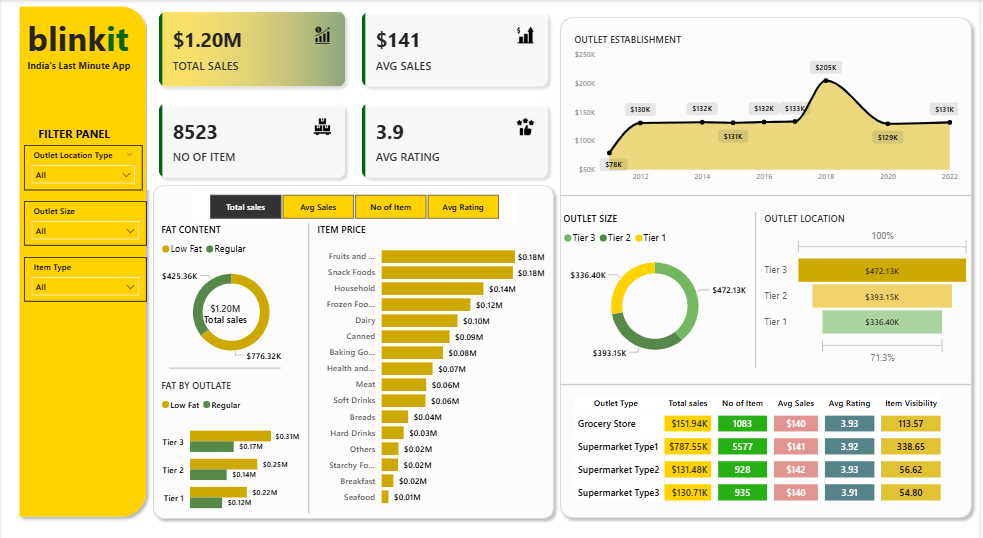

The dashboard page shown, as its layout file describes it:
{"tool":"powerbi","page":{"name":"Page 1","canvas":[1400,800],"ordinal":0},"visuals":[{"type":"shape","box":[16,0,200,750],"z":0},{"type":"textbox","box":[32,16,176,80],"z":1000},{"type":"textbox","box":[32,80,176,32],"z":2000},{"type":"cardVisual","fields":{"Data":["BlinkIT Grocery Data.Total sales","BlinkIT Grocery Data.Avg Sales","BlinkIT Grocery Data.No of Item","BlinkIT Grocery Data.Avg Rating"]},"box":[208,0,592,272],"z":3000},{"type":"shape","box":[208,256,592,496],"z":4000},{"type":"donutChart","title":"FAT CONTENT","fields":{"Y":["BlinkIT Grocery Data.Total sales"],"Category":["BlinkIT Grocery Data.Item Fat Content"]},"box":[224,320,210,210],"z":5000},{"type":"slicer","fields":{"Values":["Matrics.Matrics"]},"box":[272,272,464,48],"z":6000},{"type":"cardVisual","fields":{"Data":["BlinkIT Grocery Data.Total sales"]},"box":[272,416,96,64],"z":7000},{"type":"clusteredBarChart","title":" FAT BY OUTLATE","fields":{"Y":["BlinkIT Grocery Data.Total sales"],"Category":["BlinkIT Grocery Data.Outlet Location Type"],"Series":["BlinkIT Grocery Data.Item Fat Content"]},"box":[224,544,208,208],"z":8000},{"type":"shape","box":[240,512,160,32],"z":9000},{"type":"shape","box":[416,320,48,416],"z":10000},{"type":"barChart","title":"ITEM PRICE","fields":{"Y":["BlinkIT Grocery Data.Total sales"],"Category":["BlinkIT Grocery Data.Item Type"]},"box":[448,320,336,416],"z":11000},{"type":"shape","box":[792,16,608,736],"z":12000},{"type":"lineChart","title":"OUTLET ESTABLISHMENT","fields":{"Y":["BlinkIT Grocery Data.Total sales"],"Category":["BlinkIT Grocery Data.Outlet Establishment Year"]},"box":[816,48,560,224],"z":13000},{"type":"shape","box":[800,272,592,16],"z":14000},{"type":"donutChart","title":"OUTLET SIZE","fields":{"Y":["BlinkIT Grocery Data.Total sales"],"Category":["BlinkIT Grocery Data.Outlet Location Type"]},"box":[800,304,272,224],"z":15000},{"type":"shape","box":[1072,304,16,224],"z":16000},{"type":"funnel","title":"OUTLET LOCATION","fields":{"Y":["BlinkIT Grocery Data.Total sales"],"Category":["BlinkIT Grocery Data.Outlet Location Type"]},"box":[1088,304,304,224],"z":17000},{"type":"shape","box":[800,544,592,16],"z":18000},{"type":"pivotTable","fields":{"Rows":["BlinkIT Grocery Data.Outlet Type"],"Values":["BlinkIT Grocery Data.Total sales","BlinkIT Grocery Data.No of Item","BlinkIT Grocery Data.Avg Sales","BlinkIT Grocery Data.Avg Rating","Sum(BlinkIT Grocery Data.Item Visibility)"]},"box":[816,560,560,224],"z":19000},{"type":"slicer","fields":{"Values":["BlinkIT Grocery Data.Outlet Location Type"]},"box":[32,208,170,65],"z":20000},{"type":"slicer","fields":{"Values":["BlinkIT Grocery Data.Outlet Size"]},"box":[32,288,176,64],"z":21000},{"type":"slicer","fields":{"Values":["BlinkIT Grocery Data.Item Type"]},"box":[32,368,176,64],"z":22000},{"type":"textbox","box":[48,176,160,32],"z":23000}]}

Visuals, with their boxes on the page's 1400x800 design canvas (x1, y1, x2, y2). These are canvas units, not pixel positions in the 983x538 screenshot, which may show the page scaled, cropped or inside an application window:
shape: x1=16, y1=0, x2=216, y2=750
textbox: x1=32, y1=16, x2=208, y2=96
textbox: x1=32, y1=80, x2=208, y2=112
cardVisual - BlinkIT Grocery Data.Total sales x BlinkIT Grocery Data.Avg Sales: x1=208, y1=0, x2=800, y2=272
shape: x1=208, y1=256, x2=800, y2=752
"FAT CONTENT" donutChart: x1=224, y1=320, x2=434, y2=530
slicer - Matrics.Matrics: x1=272, y1=272, x2=736, y2=320
cardVisual - BlinkIT Grocery Data.Total sales: x1=272, y1=416, x2=368, y2=480
" FAT BY OUTLATE" clusteredBarChart: x1=224, y1=544, x2=432, y2=752
shape: x1=240, y1=512, x2=400, y2=544
shape: x1=416, y1=320, x2=464, y2=736
"ITEM PRICE" barChart: x1=448, y1=320, x2=784, y2=736
shape: x1=792, y1=16, x2=1400, y2=752
"OUTLET ESTABLISHMENT" lineChart: x1=816, y1=48, x2=1376, y2=272
shape: x1=800, y1=272, x2=1392, y2=288
"OUTLET SIZE" donutChart: x1=800, y1=304, x2=1072, y2=528
shape: x1=1072, y1=304, x2=1088, y2=528
"OUTLET LOCATION" funnel: x1=1088, y1=304, x2=1392, y2=528
shape: x1=800, y1=544, x2=1392, y2=560
pivotTable - BlinkIT Grocery Data.Outlet Type x BlinkIT Grocery Data.Total sales: x1=816, y1=560, x2=1376, y2=784
slicer - BlinkIT Grocery Data.Outlet Location Type: x1=32, y1=208, x2=202, y2=273
slicer - BlinkIT Grocery Data.Outlet Size: x1=32, y1=288, x2=208, y2=352
slicer - BlinkIT Grocery Data.Item Type: x1=32, y1=368, x2=208, y2=432
textbox: x1=48, y1=176, x2=208, y2=208
